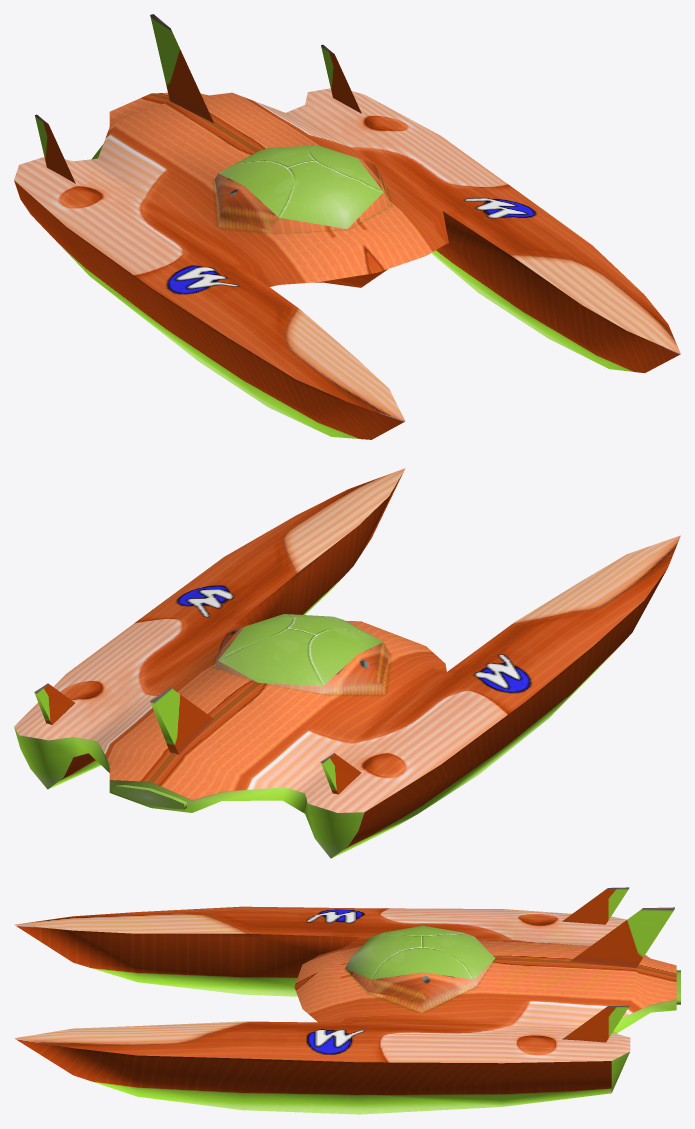
Rendered from G-Boat.glb.
3 renders of one model, top to bottom at view 1: azimuth 30°, elevation 25°; view 2: azimuth 150°, elevation 25°; view 3: azimuth 270°, elevation 25°, orthographic. The views are drawn at different scales.
Parts seen in each view (by area): view 1: obj phong**, cockpit verre; view 2: obj phong**, cockpit verre; view 3: obj phong**, cockpit verre.
Part boxes in pixels (x1=…): obj phong**: x1=14, y1=14, x2=680, y2=439; cockpit verre: x1=218, y1=145, x2=383, y2=228; obj phong**: x1=14, y1=468, x2=680, y2=858; cockpit verre: x1=218, y1=614, x2=382, y2=686; obj phong**: x1=14, y1=887, x2=680, y2=1114; cockpit verre: x1=345, y1=925, x2=494, y2=979.
Bounding box in the file's own units: 3.81 × 1.72 × 6.97.
2 materials, 2 textured.
